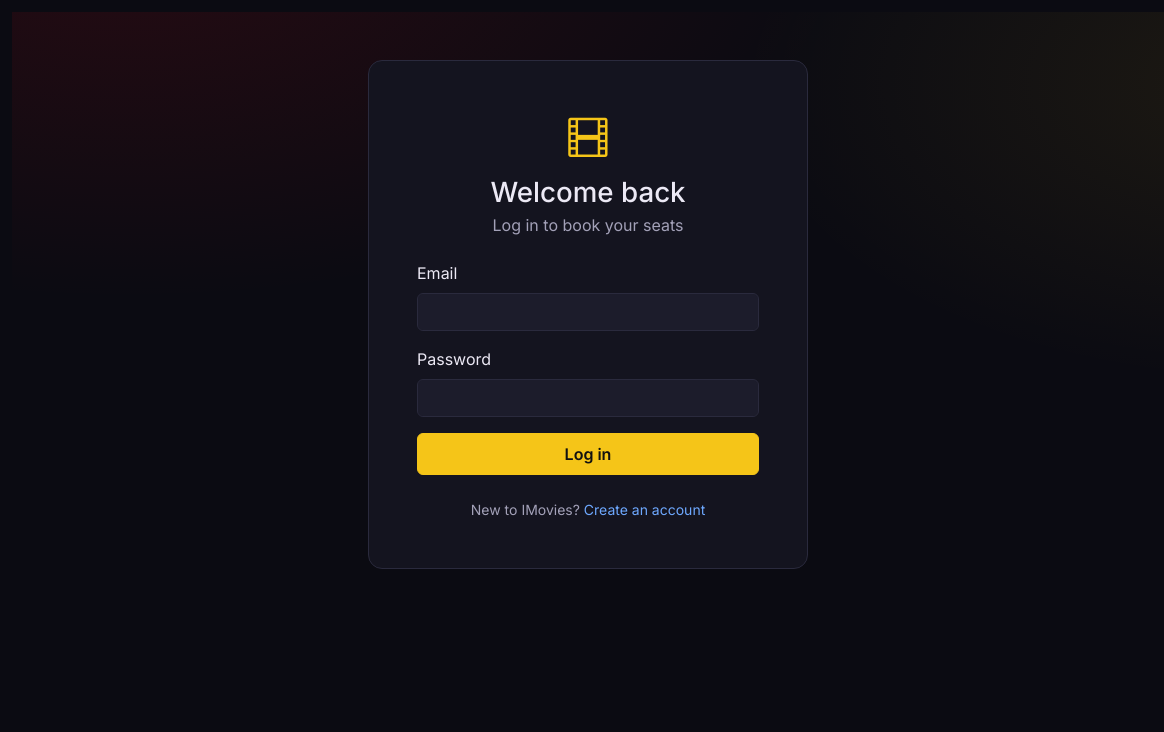
Test: Authentication forms › logs in and redirects to the requested page
The width and height of the screenshot is (1164, 732).
Type "demo@imovies.test" into the field labelled "Email".
click(588, 312); type("demo@imovies.test")  # box x1=417 y1=293 x2=759 y2=331
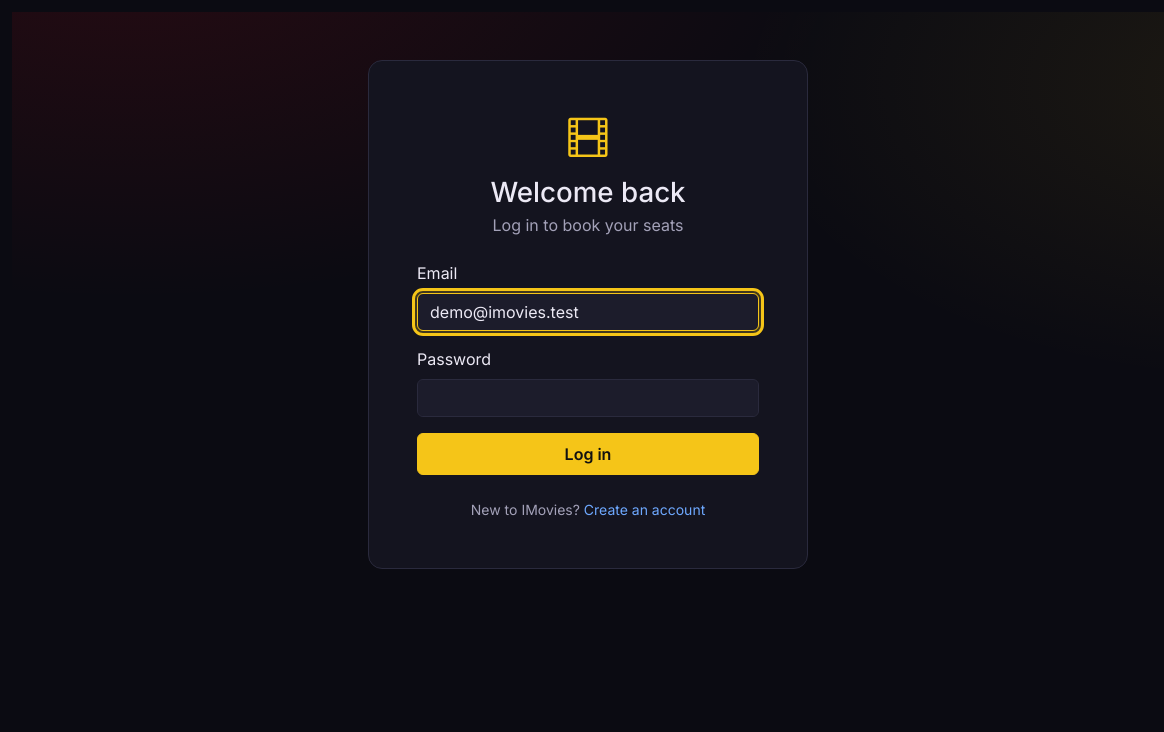
Type "Demo@12345" into the password field labelled "Password".
click(588, 398); type("Demo@12345")  # box x1=417 y1=379 x2=759 y2=417
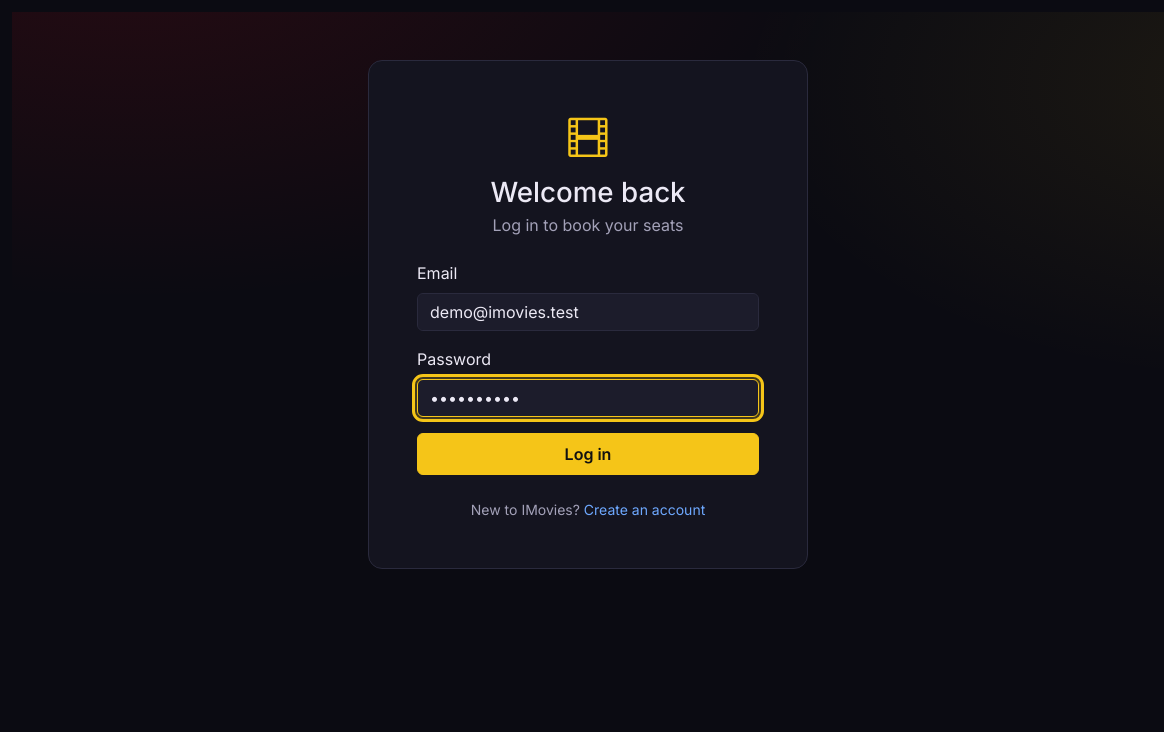
Click the button "Log in".
click(588, 454)  # box x1=417 y1=433 x2=759 y2=475
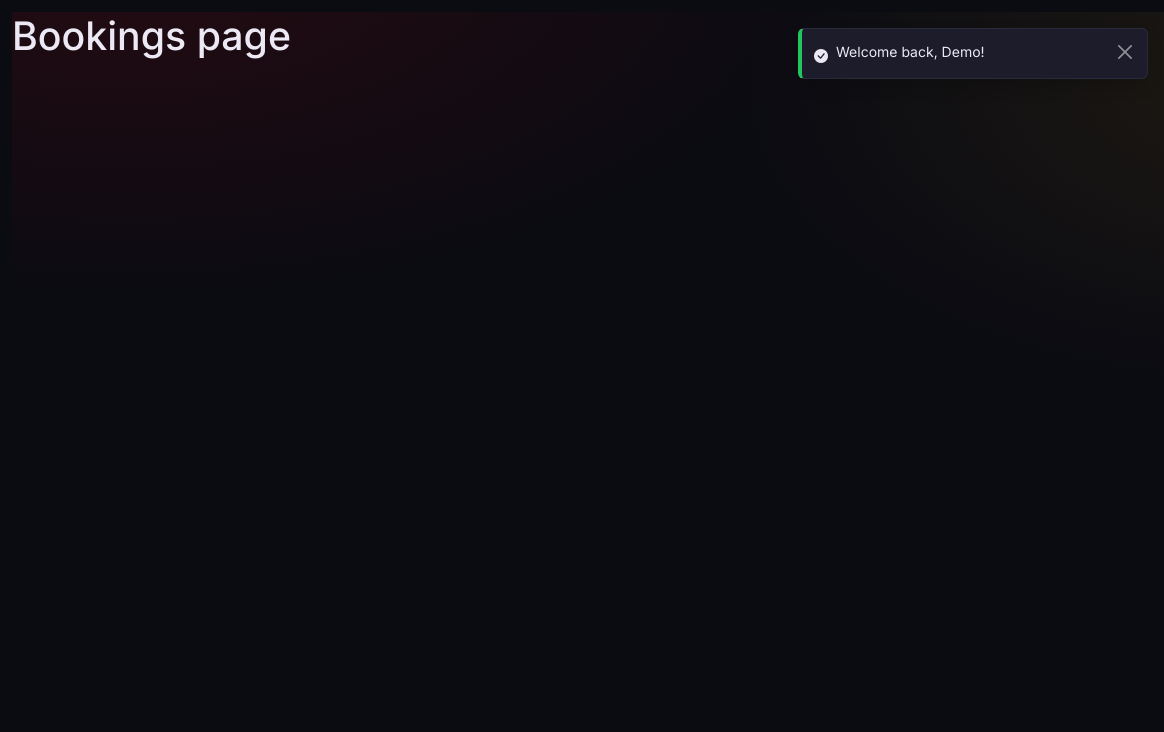
expect the heading "Bookings page" is shown: met, box x1=12 y1=12 x2=291 y2=59
